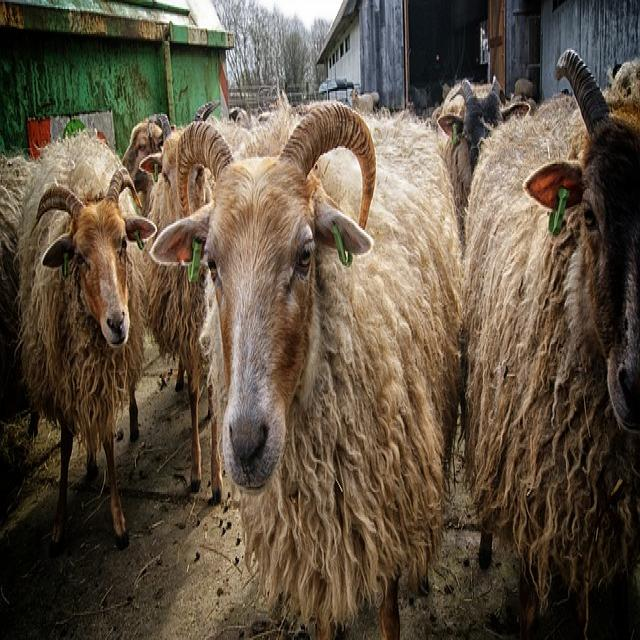goat: (157, 103, 471, 640), (461, 62, 640, 640), (16, 189, 144, 551)
